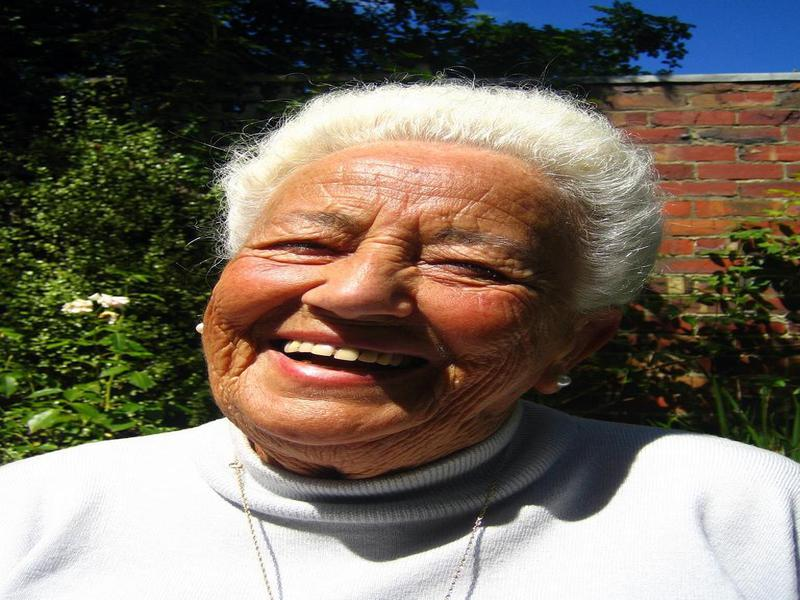person: (1, 75, 800, 598)
